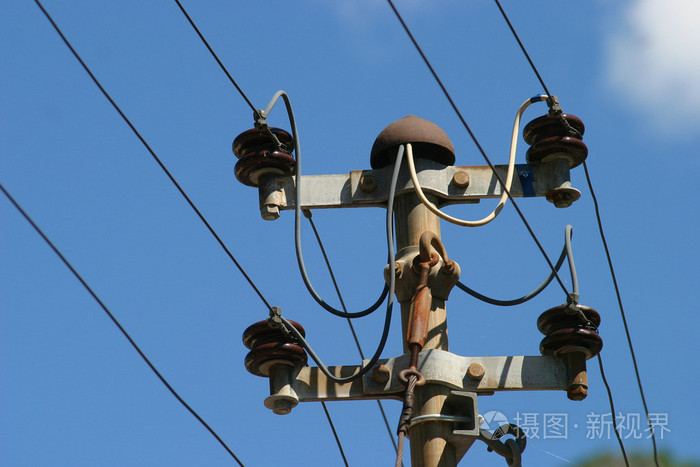insulator: (521, 109, 592, 169), (231, 123, 298, 186), (534, 304, 605, 357), (240, 321, 313, 372)
